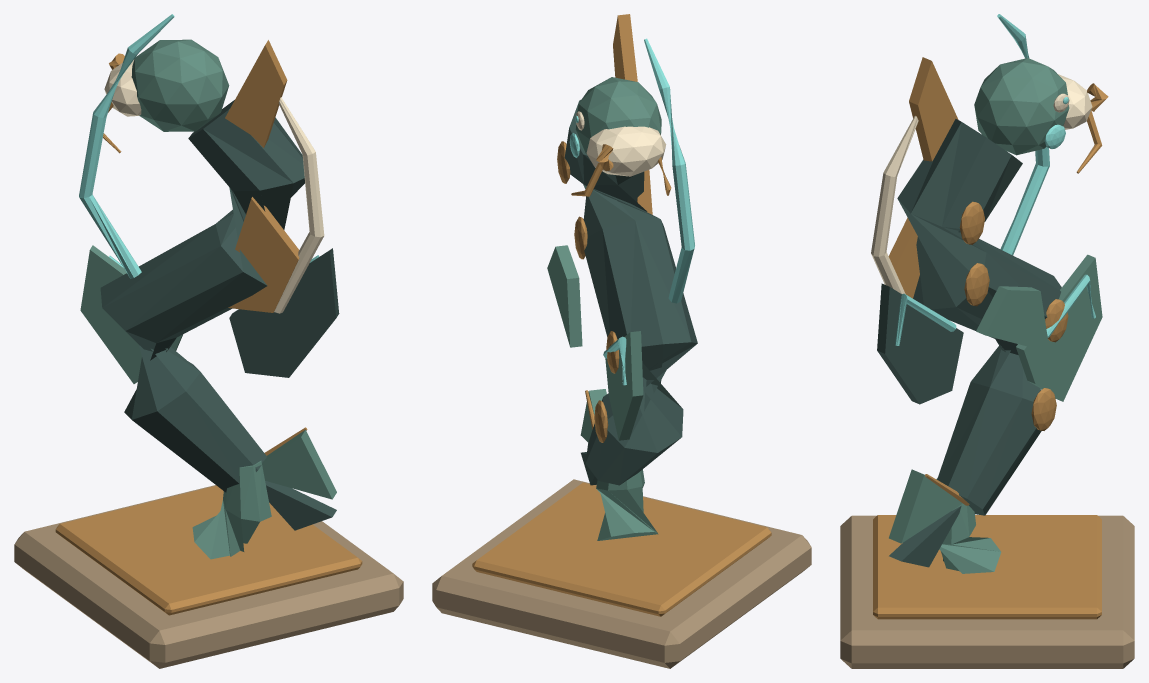
Rendered from Tower_StormCarpL3.fbx.
The picture shows the model from 3 angles, left to right: view 1: azimuth 30°, elevation 25°; view 2: azimuth 150°, elevation 25°; view 3: azimuth 270°, elevation 25°; orthographic projection. The views are drawn at different scales.
Parts seen in each view (by area): view 1: Tower_StormCarpL3; view 2: Tower_StormCarpL3; view 3: Tower_StormCarpL3.
Part boxes in pixels (x1,y1,x2,y2): Tower_StormCarpL3: [14, 14, 403, 668]; Tower_StormCarpL3: [432, 14, 811, 668]; Tower_StormCarpL3: [840, 14, 1134, 668].
Bounding box in the file's own units: 0.9 × 1.96 × 0.9.
